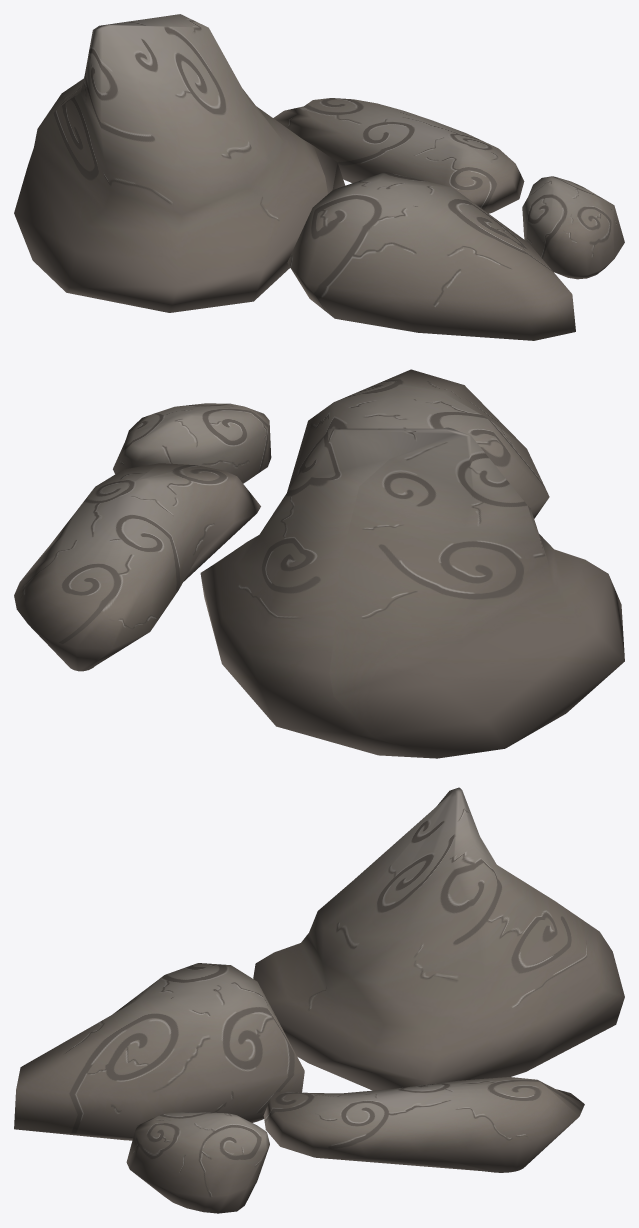
Rendered from PVB export buiten stenen.fbx.
3 renders of one model, top to bottom at view 1: azimuth 30°, elevation 25°; view 2: azimuth 150°, elevation 25°; view 3: azimuth 270°, elevation 25°, orthographic. The views are drawn at different scales.
Visible parts, largest first — view 1: steen_2, steen_1, steen_3, steen_4; view 2: steen_2, steen_3, steen_1, steen_4; view 3: steen_2, steen_1, steen_3, steen_4.
Part boxes in pixels (x1=…): steen_2: x1=14, y1=14, x2=345, y2=312; steen_1: x1=287, y1=172, x2=575, y2=340; steen_3: x1=273, y1=98, x2=524, y2=213; steen_4: x1=522, y1=176, x2=624, y2=279; steen_2: x1=200, y1=427, x2=624, y2=758; steen_3: x1=14, y1=463, x2=260, y2=671; steen_1: x1=287, y1=369, x2=549, y2=518; steen_4: x1=113, y1=403, x2=271, y2=483; steen_2: x1=253, y1=787, x2=624, y2=1090; steen_1: x1=14, y1=963, x2=304, y2=1140; steen_3: x1=263, y1=1077, x2=584, y2=1172; steen_4: x1=126, y1=1112, x2=269, y2=1213.
Bounding box in the file's own units: 12.39 × 5.84 × 13.46.
Materials: 1 (1 with a texture image).
